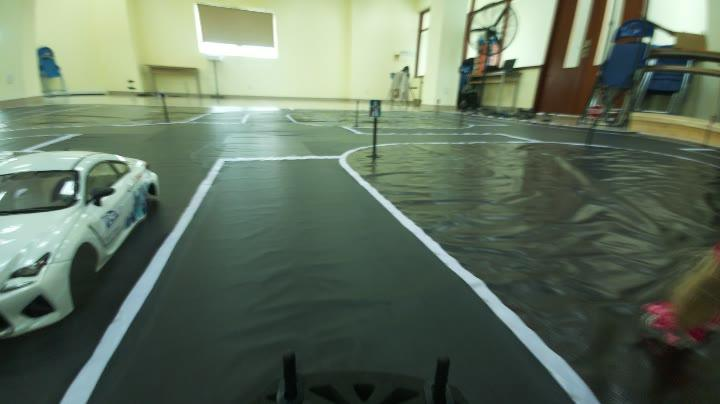car: (1, 92, 167, 342)
highway_exit: (360, 95, 387, 121)
